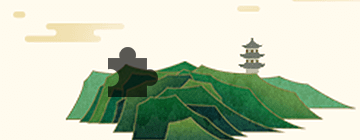target: (108, 47, 158, 98)
